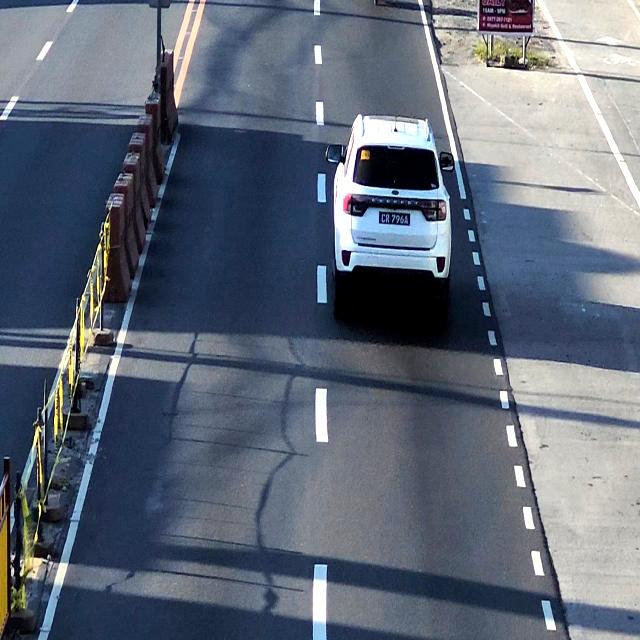Car: (334, 111, 449, 340)
License-Plate: (378, 210, 414, 229)
